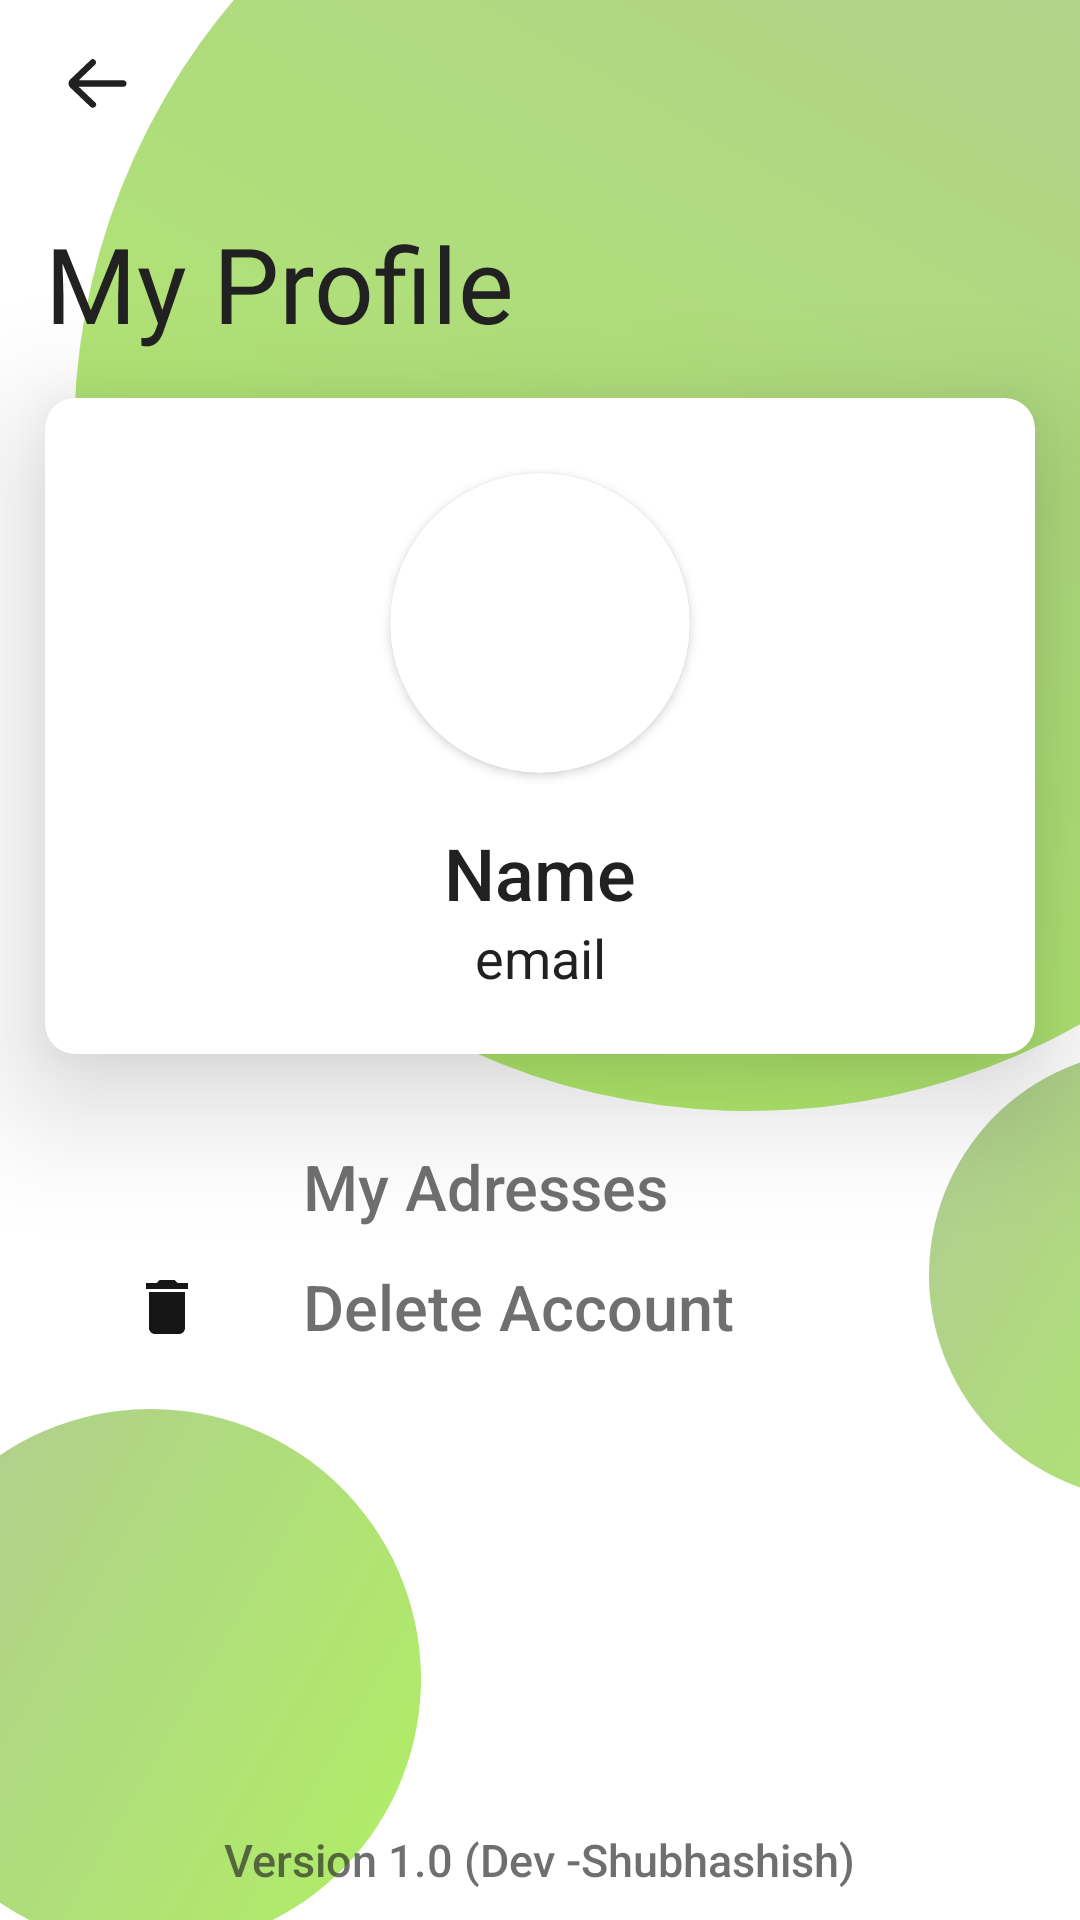

Named icons in this screenshot (1080w x 1920h) and their centers, point (x, y):
back: point (97, 83)
